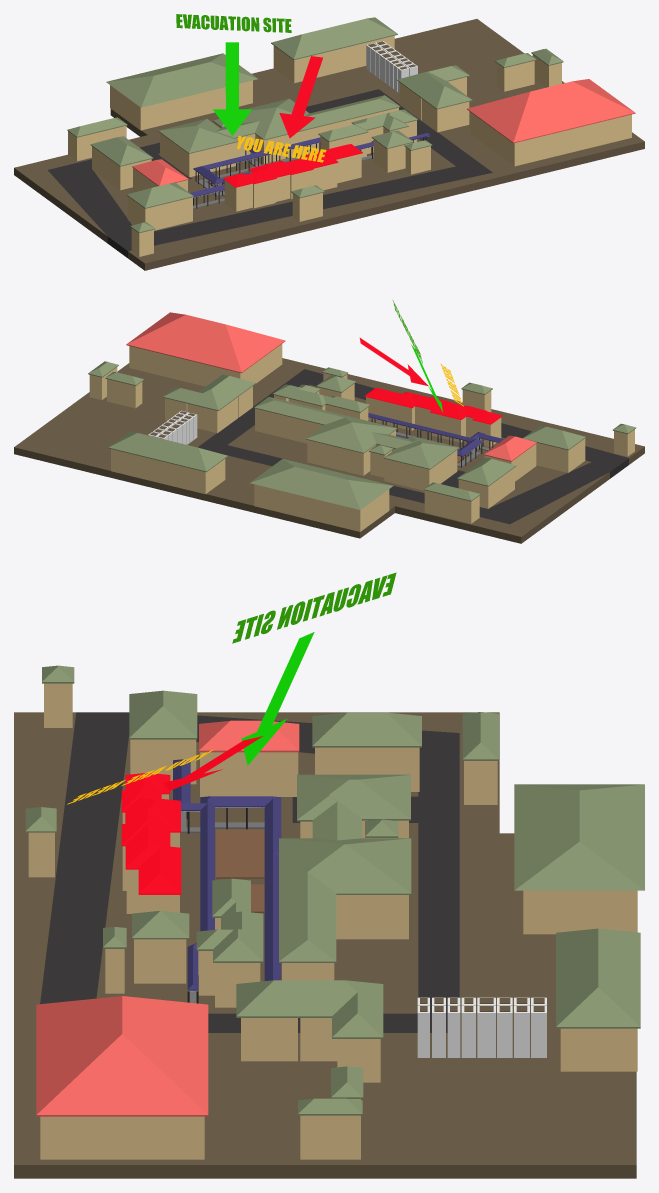
The model's file is BASDNBUILDING.glb.
3 renders of one model, top to bottom at view 1: azimuth 30°, elevation 25°; view 2: azimuth 150°, elevation 25°; view 3: azimuth 270°, elevation 25°, orthographic. The views are drawn at different scales.
Visible parts, largest first — view 1: Toposolid Grassland - 1200mm [352516], Toposolid Grassland - 1200mm [354195], Basic Roof Generic - 125mm [387914], Basic Roof Generic - 125mm [384035], Basic Roof Generic - 125mm [378573], Basic Wall Generic - 200mm [355787], Basic Roof Generic - 125mm [385592], Basic Wall Generic - 200mm [355672], Basic Roof Generic - 125mm [385698], Basic Roof Generic - 125mm [387351], Basic Wall Generic - 200mm [355773], Plane.001 (+37 smaller); view 2: Toposolid Grassland - 1200mm [352516], Toposolid Grassland - 1200mm [354195], Basic Roof Generic - 125mm [387914], Basic Roof Generic - 125mm [384035], Basic Roof Generic - 125mm [378573], Basic Wall Generic - 200mm [355757], Basic Roof Generic - 125mm [385592], Basic Wall Generic - 200mm [355771], Basic Wall Generic - 200mm [355789], Basic Roof Generic - 125mm [385698], Basic Roof Generic - 125mm [387351], Basic Wall Generic - 200mm [357221] (+26 smaller); view 3: Toposolid Grassland - 1200mm [352516], Toposolid Grassland - 1200mm [354195], Basic Roof Generic - 125mm [387914], Basic Roof Generic - 125mm [384035], Basic Roof Generic - 125mm [378573], Basic Roof Generic - 125mm [385592], Basic Wall Generic - 200mm [355788], Basic Roof Generic - 125mm [389243], Basic Roof Generic - 125mm [387351], Basic Roof Generic - 125mm [385698], Basic Wall Generic - 200mm [355719], Basic Roof Generic - 125mm [387935] (+28 smaller).
Part boxes in pixels (x1=…): Toposolid Grassland - 1200mm [352516]: x1=14, y1=19, x2=644, y2=270; Toposolid Grassland - 1200mm [354195]: x1=48, y1=89, x2=492, y2=257; Basic Roof Generic - 125mm [387914]: x1=467, y1=79, x2=635, y2=143; Basic Roof Generic - 125mm [384035]: x1=158, y1=95, x2=400, y2=153; Basic Roof Generic - 125mm [378573]: x1=106, y1=53, x2=257, y2=107; Basic Wall Generic - 200mm [355787]: x1=516, y1=114, x2=631, y2=165; Basic Roof Generic - 125mm [385592]: x1=271, y1=17, x2=397, y2=59; Basic Wall Generic - 200mm [355672]: x1=142, y1=80, x2=252, y2=130; Basic Roof Generic - 125mm [385698]: x1=223, y1=144, x2=362, y2=187; Basic Roof Generic - 125mm [387351]: x1=397, y1=65, x2=472, y2=109; Basic Wall Generic - 200mm [355773]: x1=295, y1=35, x2=394, y2=82; Plane.001: x1=213, y1=42, x2=251, y2=135; Toposolid Grassland - 1200mm [352516]: x1=14, y1=358, x2=644, y2=543; Toposolid Grassland - 1200mm [354195]: x1=198, y1=369, x2=628, y2=524; Basic Roof Generic - 125mm [387914]: x1=126, y1=312, x2=285, y2=373; Basic Roof Generic - 125mm [384035]: x1=254, y1=397, x2=458, y2=469; Basic Roof Generic - 125mm [378573]: x1=250, y1=459, x2=393, y2=509; Basic Wall Generic - 200mm [355757]: x1=255, y1=484, x2=359, y2=531; Basic Roof Generic - 125mm [385592]: x1=108, y1=431, x2=227, y2=472; Basic Wall Generic - 200mm [355771]: x1=112, y1=449, x2=206, y2=494; Basic Wall Generic - 200mm [355789]: x1=130, y1=346, x2=240, y2=386; Basic Roof Generic - 125mm [385698]: x1=364, y1=388, x2=502, y2=424; Basic Roof Generic - 125mm [387351]: x1=163, y1=375, x2=255, y2=410; Basic Wall Generic - 200mm [357221]: x1=255, y1=408, x2=323, y2=443; Toposolid Grassland - 1200mm [352516]: x1=14, y1=712, x2=636, y2=1178; Toposolid Grassland - 1200mm [354195]: x1=40, y1=712, x2=459, y2=1032; Basic Roof Generic - 125mm [387914]: x1=36, y1=996, x2=208, y2=1116; Basic Roof Generic - 125mm [384035]: x1=279, y1=774, x2=411, y2=962; Basic Roof Generic - 125mm [378573]: x1=514, y1=784, x2=644, y2=890; Basic Roof Generic - 125mm [385592]: x1=556, y1=928, x2=640, y2=1028; Basic Wall Generic - 200mm [355788]: x1=43, y1=1116, x2=204, y2=1159; Basic Roof Generic - 125mm [389243]: x1=173, y1=759, x2=281, y2=990; Basic Roof Generic - 125mm [387351]: x1=236, y1=980, x2=383, y2=1038; Basic Roof Generic - 125mm [385698]: x1=121, y1=773, x2=181, y2=894; Basic Wall Generic - 200mm [355719]: x1=525, y1=890, x2=637, y2=934; Basic Roof Generic - 125mm [387935]: x1=196, y1=878, x2=263, y2=962.
Bounding box in the file's own units: 86 × 25.82 × 50.68.
